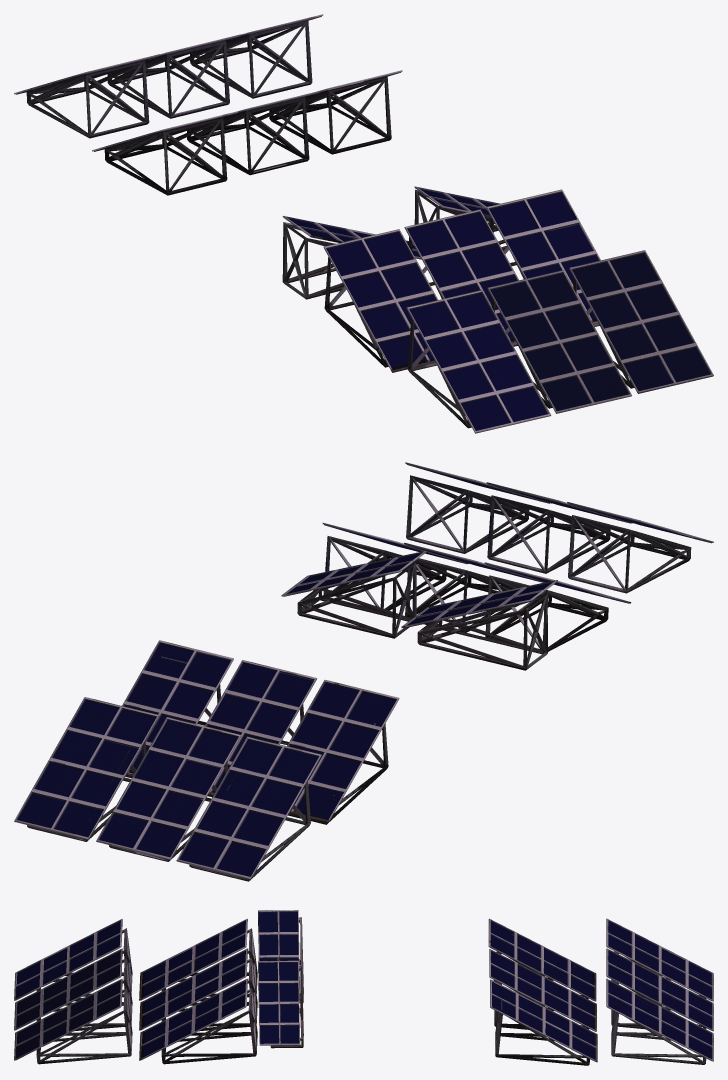
File: int_101.fbx
The picture shows the model from 3 angles, top to bottom: view 1: azimuth 30°, elevation 25°; view 2: azimuth 150°, elevation 25°; view 3: azimuth 270°, elevation 25°; orthographic projection. The views are drawn at different scales.
Visible parts, largest first — view 1: paneles.001; view 2: paneles.001; view 3: paneles.001.
Boxes of the visible parts, box(x1,y1,x2,y2) form: paneles.001: box(14, 14, 713, 433); paneles.001: box(14, 462, 713, 881); paneles.001: box(14, 910, 713, 1065).
Bounding box in the file's own units: 610 × 209 × 1951.
Materials: 1 (1 with a texture image).
